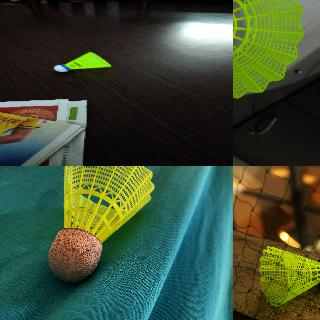shuttlecock: (48, 166, 154, 283), (233, 0, 303, 97), (259, 245, 319, 307), (54, 51, 112, 71)
